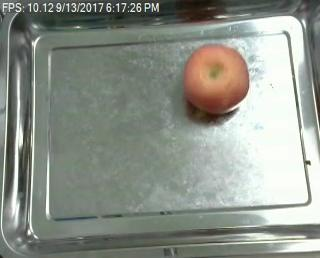apple: (180, 43, 250, 114)
